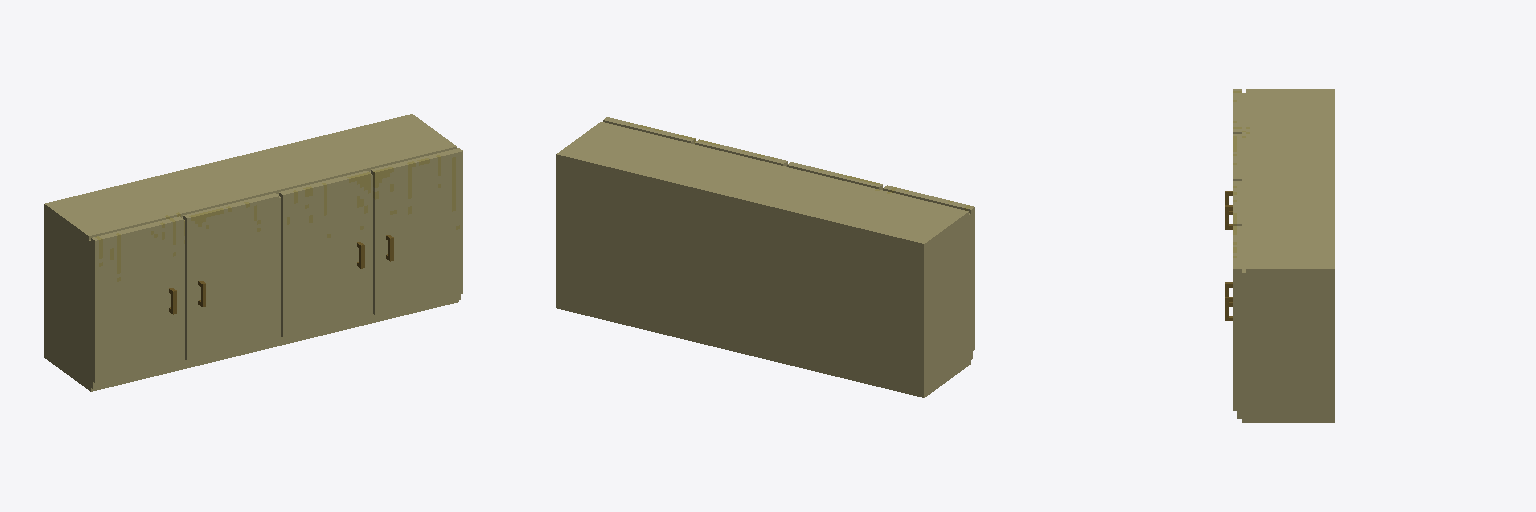
3 views of the same model, side by side, from view 1: azimuth 30°, elevation 25°; view 2: azimuth 150°, elevation 25°; view 3: azimuth 270°, elevation 25° (orthographic).
Parts seen in each view (by area): view 1: object 1; view 2: object 1; view 3: object 1.
Part boxes in pixels (bbox=[...]): object 1: bbox=[44, 114, 462, 391]; object 1: bbox=[556, 117, 974, 397]; object 1: bbox=[1225, 89, 1334, 422].
Size of the model in its own units: 10 by 4 by 2.6.
Materials: 1 (1 with a texture image).